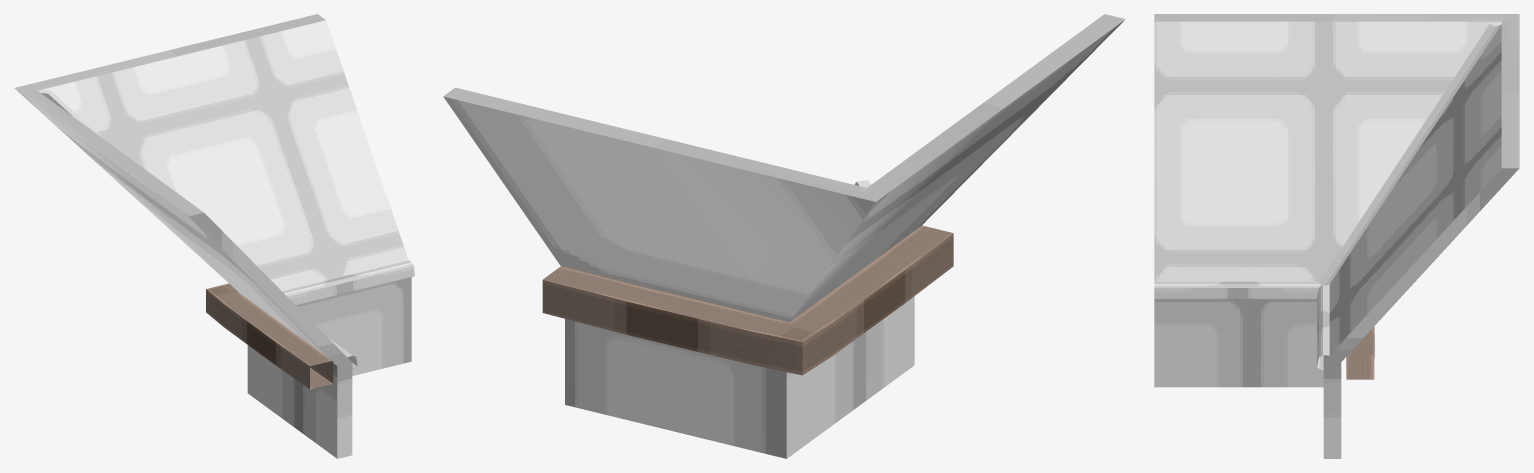
Rendered from SM_Roof_Corner_01.fbx.
3 views of the same model, side by side, from view 1: azimuth 30°, elevation 25°; view 2: azimuth 150°, elevation 25°; view 3: azimuth 270°, elevation 25° (orthographic). The views are drawn at different scales.
Parts seen in each view (by area): view 1: SM_Roof_Corner_01_LOD0; view 2: SM_Roof_Corner_01_LOD0; view 3: SM_Roof_Corner_01_LOD0.
Part boxes in pixels (left/top/right/bottom): SM_Roof_Corner_01_LOD0: left=14, top=14, right=414, bottom=458; SM_Roof_Corner_01_LOD0: left=443, top=14, right=1125, bottom=458; SM_Roof_Corner_01_LOD0: left=1154, top=14, right=1519, bottom=458.
Bounding box in the file's own units: 1025 × 1025 × 900.
